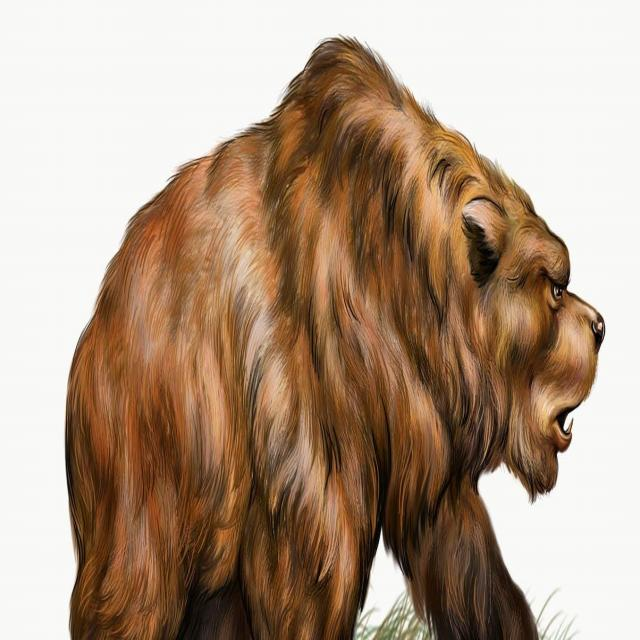Bear: (63, 37, 607, 640)
